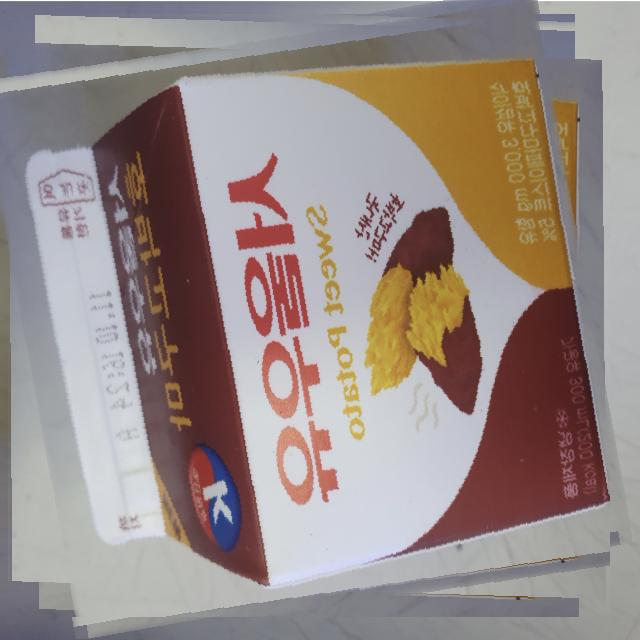biodegradable: (0, 5, 610, 617)
